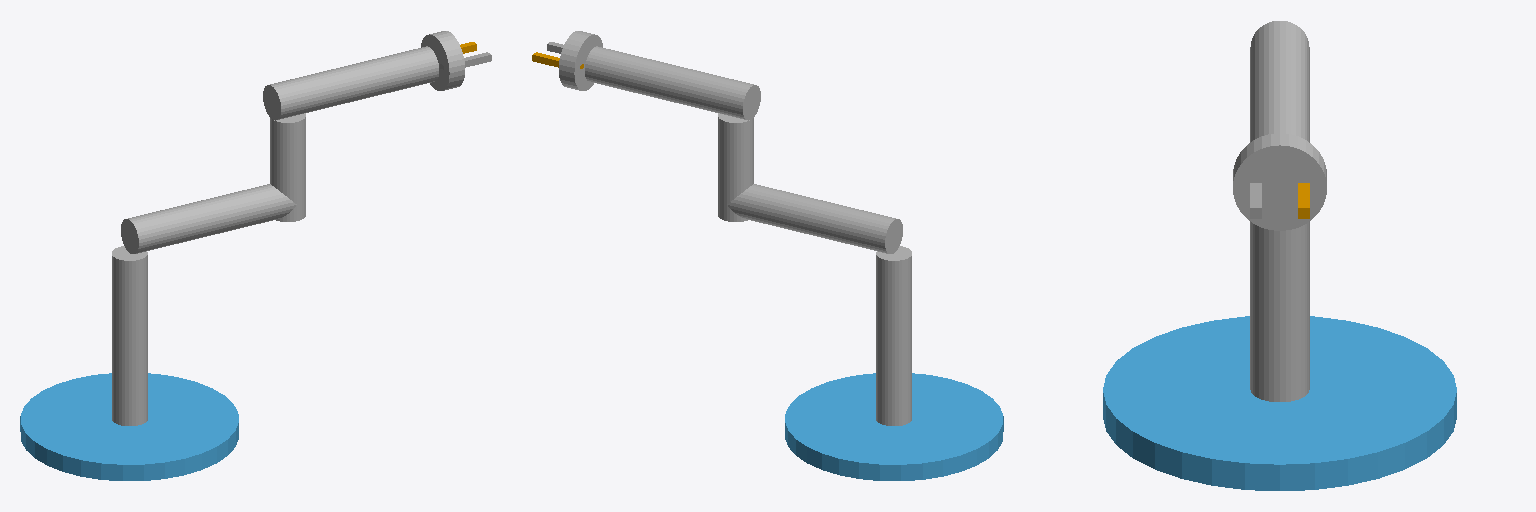
URDF robot description (robotic_arm):
<?xml version="1.0"?>
<!-- roslaunch urdf_tutorial display.launch moedl:='$(find custom_robotic_arm)/urdf/robotic_arm.urdf'-->
<robot name="robotic_arm">
    <link name="world"/>
    <!-- BASE LINK-->
        <link name="base_link">
            <visual>
                <geometry>
                    <cylinder radius="0.3" length="0.05"/>
                </geometry>
                <material name="Black"/>
                <origin xyz="0.0 0.0 0.025" rpy="0.0 0.0 0.0"/>
            </visual>
            <collision>
                <geometry>
                    <cylinder radius="0.3" length="0.05"/>
                </geometry>
                <origin xyz="0.0 0.0 0.025" rpy="0.0 0.0 0.0"/>
            </collision>
            <inertial>
                <mass value="1"/>
                <origin xyz="0.0 0.0 0.025"/>
                <inertia ixx="027" izz="0.005" iyy="0.0027" ixy="0.0" ixz="0.0"  iyz="0.0" />
            </inertial>
    </link>

    <joint name="fixed_base" type="fixed">
        <parent link="world"/>
        <child link="base_link"/>
        
    </joint>

    <!-- One LINK-->
    <link name="One">
            <visual>
                <geometry>
                    <cylinder radius="0.05" length="0.5"/>
                </geometry>
                <material name="Silver">
                <color rgba="0.75 0.75 0.75 1.0"/>
                </material>
                <origin xyz="0.0 0.0 0.25" rpy="0.0 0.0 0.0"/>
                <!--Its the relation between joint and the body in distance-->
            </visual>
            <collision>
                <geometry>
                    <cylinder radius="0.05" length="0.5"/>
                </geometry>
                <origin xyz="0.0 0.0 0.25" rpy="0.0 0.0 0.0"/>
            </collision>
            <inertial>
                <mass value="1"/>
                <origin xyz="0.0 0.0 0.25" rpy="0.0 0.0 0.0"/>
                <inertia ixx="0.02176" izz="0.00125" iyy="0.02146" ixy="0.0" ixz="0.0"  iyz="0.0" />
            </inertial>
    </link>

    <joint name="One_joint" type="continuous">
        <parent link="base_link"/>
        <child link="One"/>
        <axis xyz="0.0 0.0 1"/>
        <origin xyz="0.0 0.0 0.05" rpy="0.0 0.0 0.0"/>
        
    </joint>

    <!-- Two LINK-->
    <link name="Two">
            <visual>
                <geometry>
                    <cylinder radius="0.05" length="0.5"/>
                </geometry>
                <material name="Silver">
                <color rgba="0.75 0.75 0.75 1.0"/>
                </material>
                <origin xyz="0.0 0.0 0.25" rpy="0.0 0.0 0.0"/>
                <!--Its the relation between joint and the body in distance-->
            </visual>
            <collision>
                <geometry>
                    <cylinder radius="0.05" length="0.5"/>
                </geometry>
                <origin xyz="0.0 0.0 0.25" rpy="0.0 0.0 0.0"/>
            </collision>
            <inertial>
                <mass value="1"/>
                <origin xyz="0.0 0.0 0.25" rpy="0.0 0.0 0.0"/>
                <inertia ixx="0.01396" izz="0.0015" iyy="0.01396" ixy="0.0" ixz="0.0"  iyz="0.0" />
            </inertial>
    </link>

    <joint name="Two_joint" type="continuous">
        <parent link="One"/>
        <child link="Two"/>
        <axis xyz="0.0 0.0 1"/>
        <origin xyz="0.0 0 0.55" rpy="0.0 1.5708 0"/>
        <!--This origin is relation between parent and child joint-->
        
    </joint>

    <!-- Two LINK-->
    <link name="Three">
            <visual>
                <geometry>
                    <cylinder radius="0.05" length="0.3"/>
                </geometry>
                <material name="Silver">
                <color rgba="0.75 0.75 0.75 1.0"/>
                </material>
                <origin xyz="0.0 0.0 0.1" rpy="0.0 0.0 0.0"/>
                <!--Its the relation between joint and the body in distance-->
            </visual>
            <collision>
                <geometry>
                    <cylinder radius="0.05" length="0.3"/>
                </geometry>
                <origin xyz="0.0 0.0 0.1" rpy="0.0 0.0 0.0"/>
            </collision>
            <inertial>
                <mass value="1"/>
                <origin xyz="0.0 0.0 0.25" rpy="0.0 0.0 0.0"/>
                <inertia ixx="0.01396" izz="0.0015" iyy="0.01396" ixy="0.0" ixz="0.0"  iyz="0.0" />
            </inertial>
    </link>

    <joint name="Three_joint" type="continuous">
        <parent link="Two"/>
        <child link="Three"/>
        <axis xyz="0.0 0 1"/>
        <origin xyz="0.0 0 0.5" rpy="0.0 -1.5708 0"/>
        <!--This origin is relation between parent and child joint-->
        
    </joint>


    <!-- Four LINK-->
    <link name="Four">
            <visual>
                <geometry>
                    <cylinder radius="0.05" length="0.5"/>
                </geometry>
                <material name="Silver">
                <color rgba="0.75 0.75 0.75 1.0"/>
                </material>
                <origin xyz="0.0 0.0 0.2" rpy="0.0 0.0 0.0"/>
                <!--Its the relation between joint and the body in distance-->
            </visual>
            <collision>
                <geometry>
                    <cylinder radius="0.05" length="0.5"/>
                </geometry>
                <origin xyz="0.0 0.0 0.25" rpy="0.0 0.0 0.0"/>
            </collision>
            <inertial>
                <mass value="1"/>
                <origin xyz="0.0 0.0 0.25" rpy="0.0 0.0 0.0"/>
                <inertia ixx="0.01396" izz="0.0015" iyy="0.01396" ixy="0.0" ixz="0.0"  iyz="0.0" />
            </inertial>
    </link>

    <joint name="Four_joint" type="continuous">
        <parent link="Three"/>
        <child link="Four"/>
        <axis xyz="0.0 0.0 1"/>
        <origin xyz="0.0 0 0.3" rpy="0.0 1.5708 0"/>
        <!--This origin is relation between parent and child joint-->
        
    </joint>
    <!-- Gripper_BASE LINK-->
    <link name="Gripper_Base">
            <visual>
                <geometry>
                    <cylinder radius="0.08" length="0.05"/>
                </geometry>
                <material name="Silver">
                <color rgba="0.75 0.75 0.75 1.0"/>
                </material>
                <origin xyz="0.0 0.0 0.04" rpy="0.0 0.0 0.0"/>
                <!--Its the relation between joint and the body in distance-->
            </visual>
            <collision>
                <geometry>
                    <cylinder radius="0.08" length="0.05"/>
                </geometry>
                <origin xyz="0.0 0.0 0.04" rpy="0.0 0.0 0.0"/>
            </collision>
            <inertial>
                <mass value="1"/>
                <origin xyz="0.0 0.0 0.25" rpy="0.0 0.0 0.0"/>
                <inertia ixx="0.01396" izz="0.00125" iyy="0.01396" ixy="0.0" ixz="0.0"  iyz="0.0" />
            </inertial>
    </link>

    <joint name="Gripper_Base_joint" type="continuous">
        <parent link="Four"/>
        <child link="Gripper_Base"/>
        <axis xyz="0.0 0.0 1"/>
        <origin xyz="0.0 0 0.45" rpy="0.0 0 0"/>
        <!--This origin is relation between parent and child joint-->
        
    </joint>

       

    <!-- Left_finger LINK-->
    <link name="L_F">
            <visual>
                <geometry>
                    <box size="0.02 0.02 0.15"/>
                </geometry>
                <material name="Red"/>
                <origin xyz="0.0 0.0 0.05" rpy="0.0 0.0 0.0"/>
                <!--Its the relation between joint and the body in distance-->
            </visual>
            <collision>
                <geometry>
                    <box size="0.02 0.02 0.15"/>
                </geometry>
                <origin xyz="0.0 0.0 0.05" rpy="0.0 0.0 0.0"/>
            </collision>
            <inertial>
                <mass value="1"/>
                <origin xyz="0.0 0.0 0.25" rpy="0.0 0.0 0.0"/>
                <inertia ixx="100" izz="0.0015" iyy="100" ixy="0.0" ixz="0.0"  iyz="0.0" />
            </inertial>
    </link>

    <joint name="L_F_joint" type="prismatic">
        <limit lower="-0.02" upper="0.02" effort="100.0" velocity="1.0"/>
        <parent link="Gripper_Base"/>
        <child link="L_F"/>
        <axis xyz="0.0 1 0"/>
        <origin xyz="0.0 -0.04 0.04" />
        <!--This origin is relation between parent and child joint-->
        
    </joint>

    <!-- Right Finger LINK-->
    <link name="R_F">
            <visual>
                <geometry>
                    <box size="0.02 0.02 0.15"/>
                </geometry>
                <material name="Red"/>
                <origin xyz="0.0 0.0 0.05" rpy="0.0 0.0 0.0"/>
                <!--Its the relation between joint and the body in distance-->
            </visual>
            <collision>
                <geometry>
                    <box size="0.02 0.02 0.15"/>
                </geometry>
                <origin xyz="0.0 0.0 0.05" rpy="0.0 0.0 0.0"/>
            </collision>
            <inertial>
                <mass value="1"/>
                <origin xyz="0.0 0.0 0.25" rpy="0.0 0.0 0.0"/>
                <inertia ixx="100" izz="0.0015" iyy="100" ixy="0.0" ixz="0.0"  iyz="0.0" />
            </inertial>
    </link>

    <joint name="R_F_joint" type="prismatic">
        <limit lower="0.02" upper="-0.02" effort="100.0" velocity="1.0"/>
        <parent link="Gripper_Base"/>
        <child link="R_F"/>
        <axis xyz="0.0 1 0"/>
        <origin xyz="0.0 0.04 0.04" />
        <!--This origin is relation between parent and child joint-->
        
    </joint>
 

</robot>

--- Facts derived from the render (not from the file) ---
The picture shows the robot from 3 angles, left to right: view 1: azimuth 30°, elevation 25°; view 2: azimuth 150°, elevation 25°; view 3: azimuth 270°, elevation 25°; orthographic projection.
Model robotic_arm with 9 links and 8 joints (5 continuous, 2 prismatic, 1 fixed), rooted at world, posed every joint at zero.
Links seen in each view (by area): view 1: base_link, Four, One, Two, Three, Gripper_Base; view 2: base_link, Four, One, Two, Three, Gripper_Base; view 3: base_link, One, Gripper_Base, Four, Three.
Link boxes in pixels (x1=…): base_link: x1=20, y1=373, x2=238, y2=480; Four: x1=263, y1=46, x2=438, y2=120; One: x1=112, y1=246, x2=147, y2=425; Two: x1=121, y1=184, x2=296, y2=253; Three: x1=270, y1=113, x2=305, y2=221; Gripper_Base: x1=421, y1=31, x2=464, y2=90; base_link: x1=785, y1=373, x2=1003, y2=480; Four: x1=585, y1=46, x2=760, y2=120; One: x1=876, y1=246, x2=911, y2=425; Two: x1=727, y1=184, x2=902, y2=253; Three: x1=718, y1=113, x2=753, y2=221; Gripper_Base: x1=559, y1=31, x2=602, y2=90; base_link: x1=1103, y1=316, x2=1456, y2=490; One: x1=1250, y1=247, x2=1309, y2=401; Gripper_Base: x1=1233, y1=133, x2=1326, y2=230; Four: x1=1250, y1=21, x2=1309, y2=142; Three: x1=1250, y1=221, x2=1309, y2=259.
Bounding box of the posed robot: 1.42 × 0.6 × 0.98 m (x, y, z).
Geometry: primitives only (box / cylinder / sphere), no mesh files.